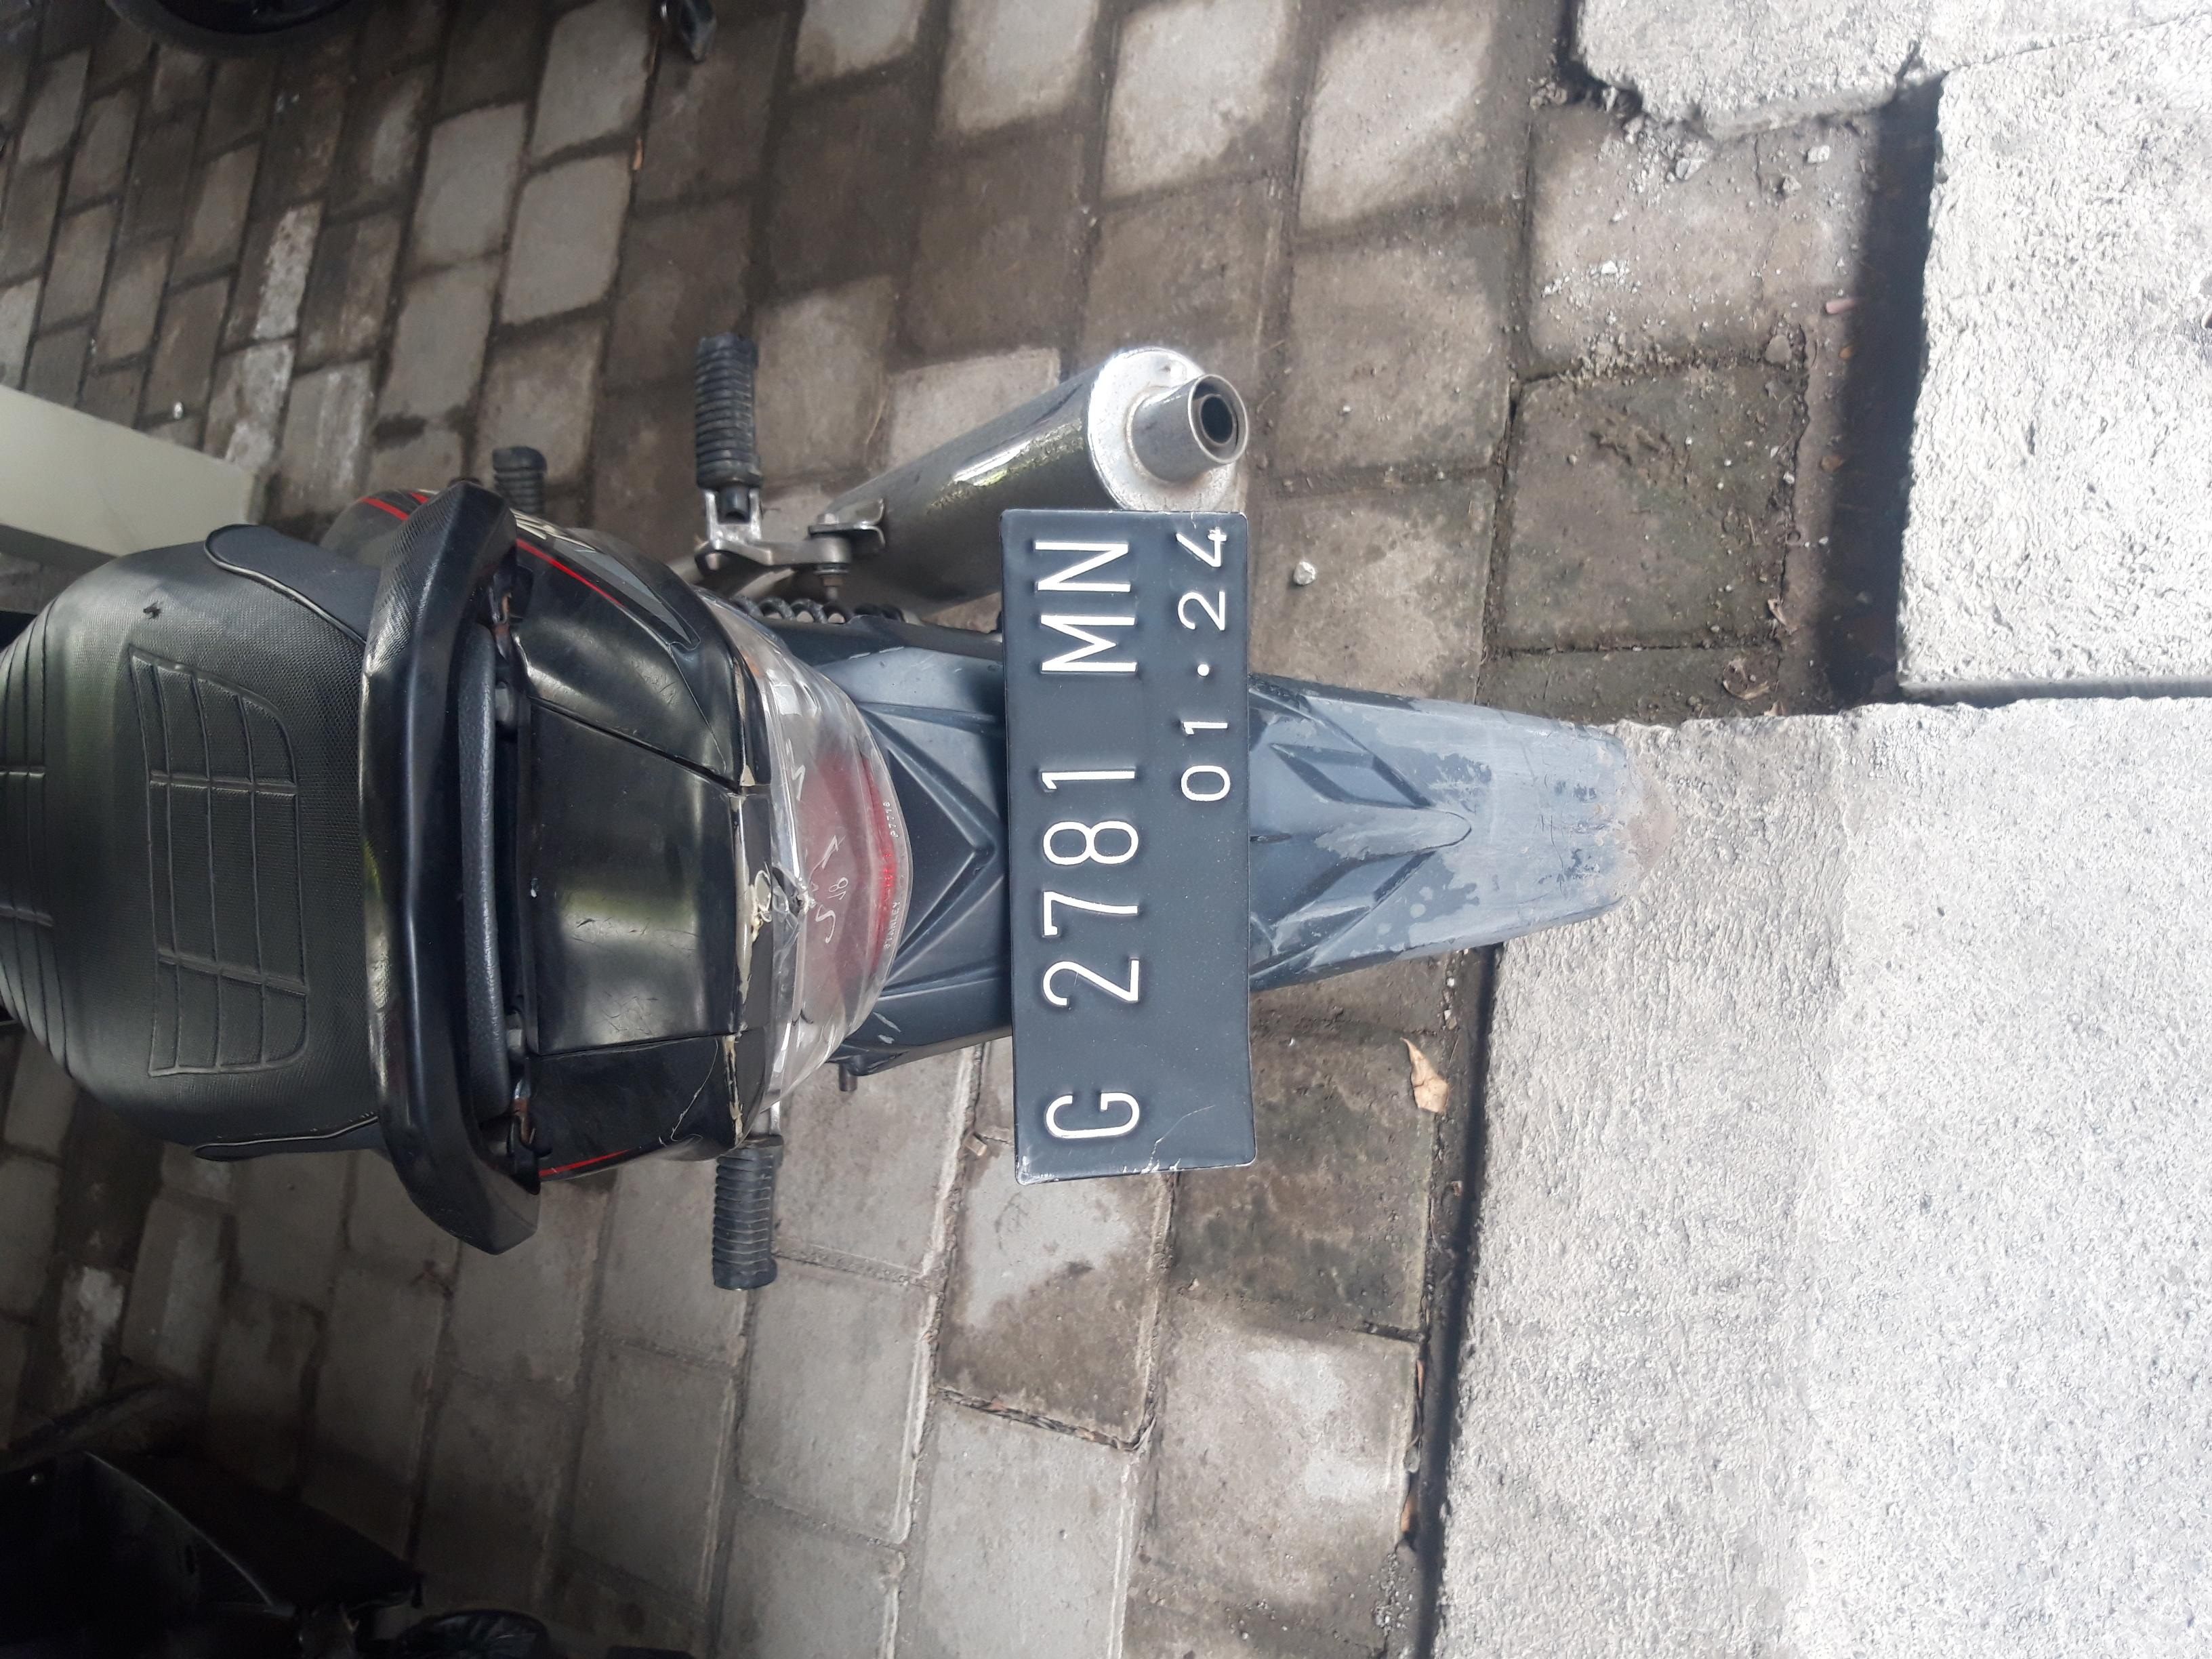plat: (634, 752, 1544, 943)
